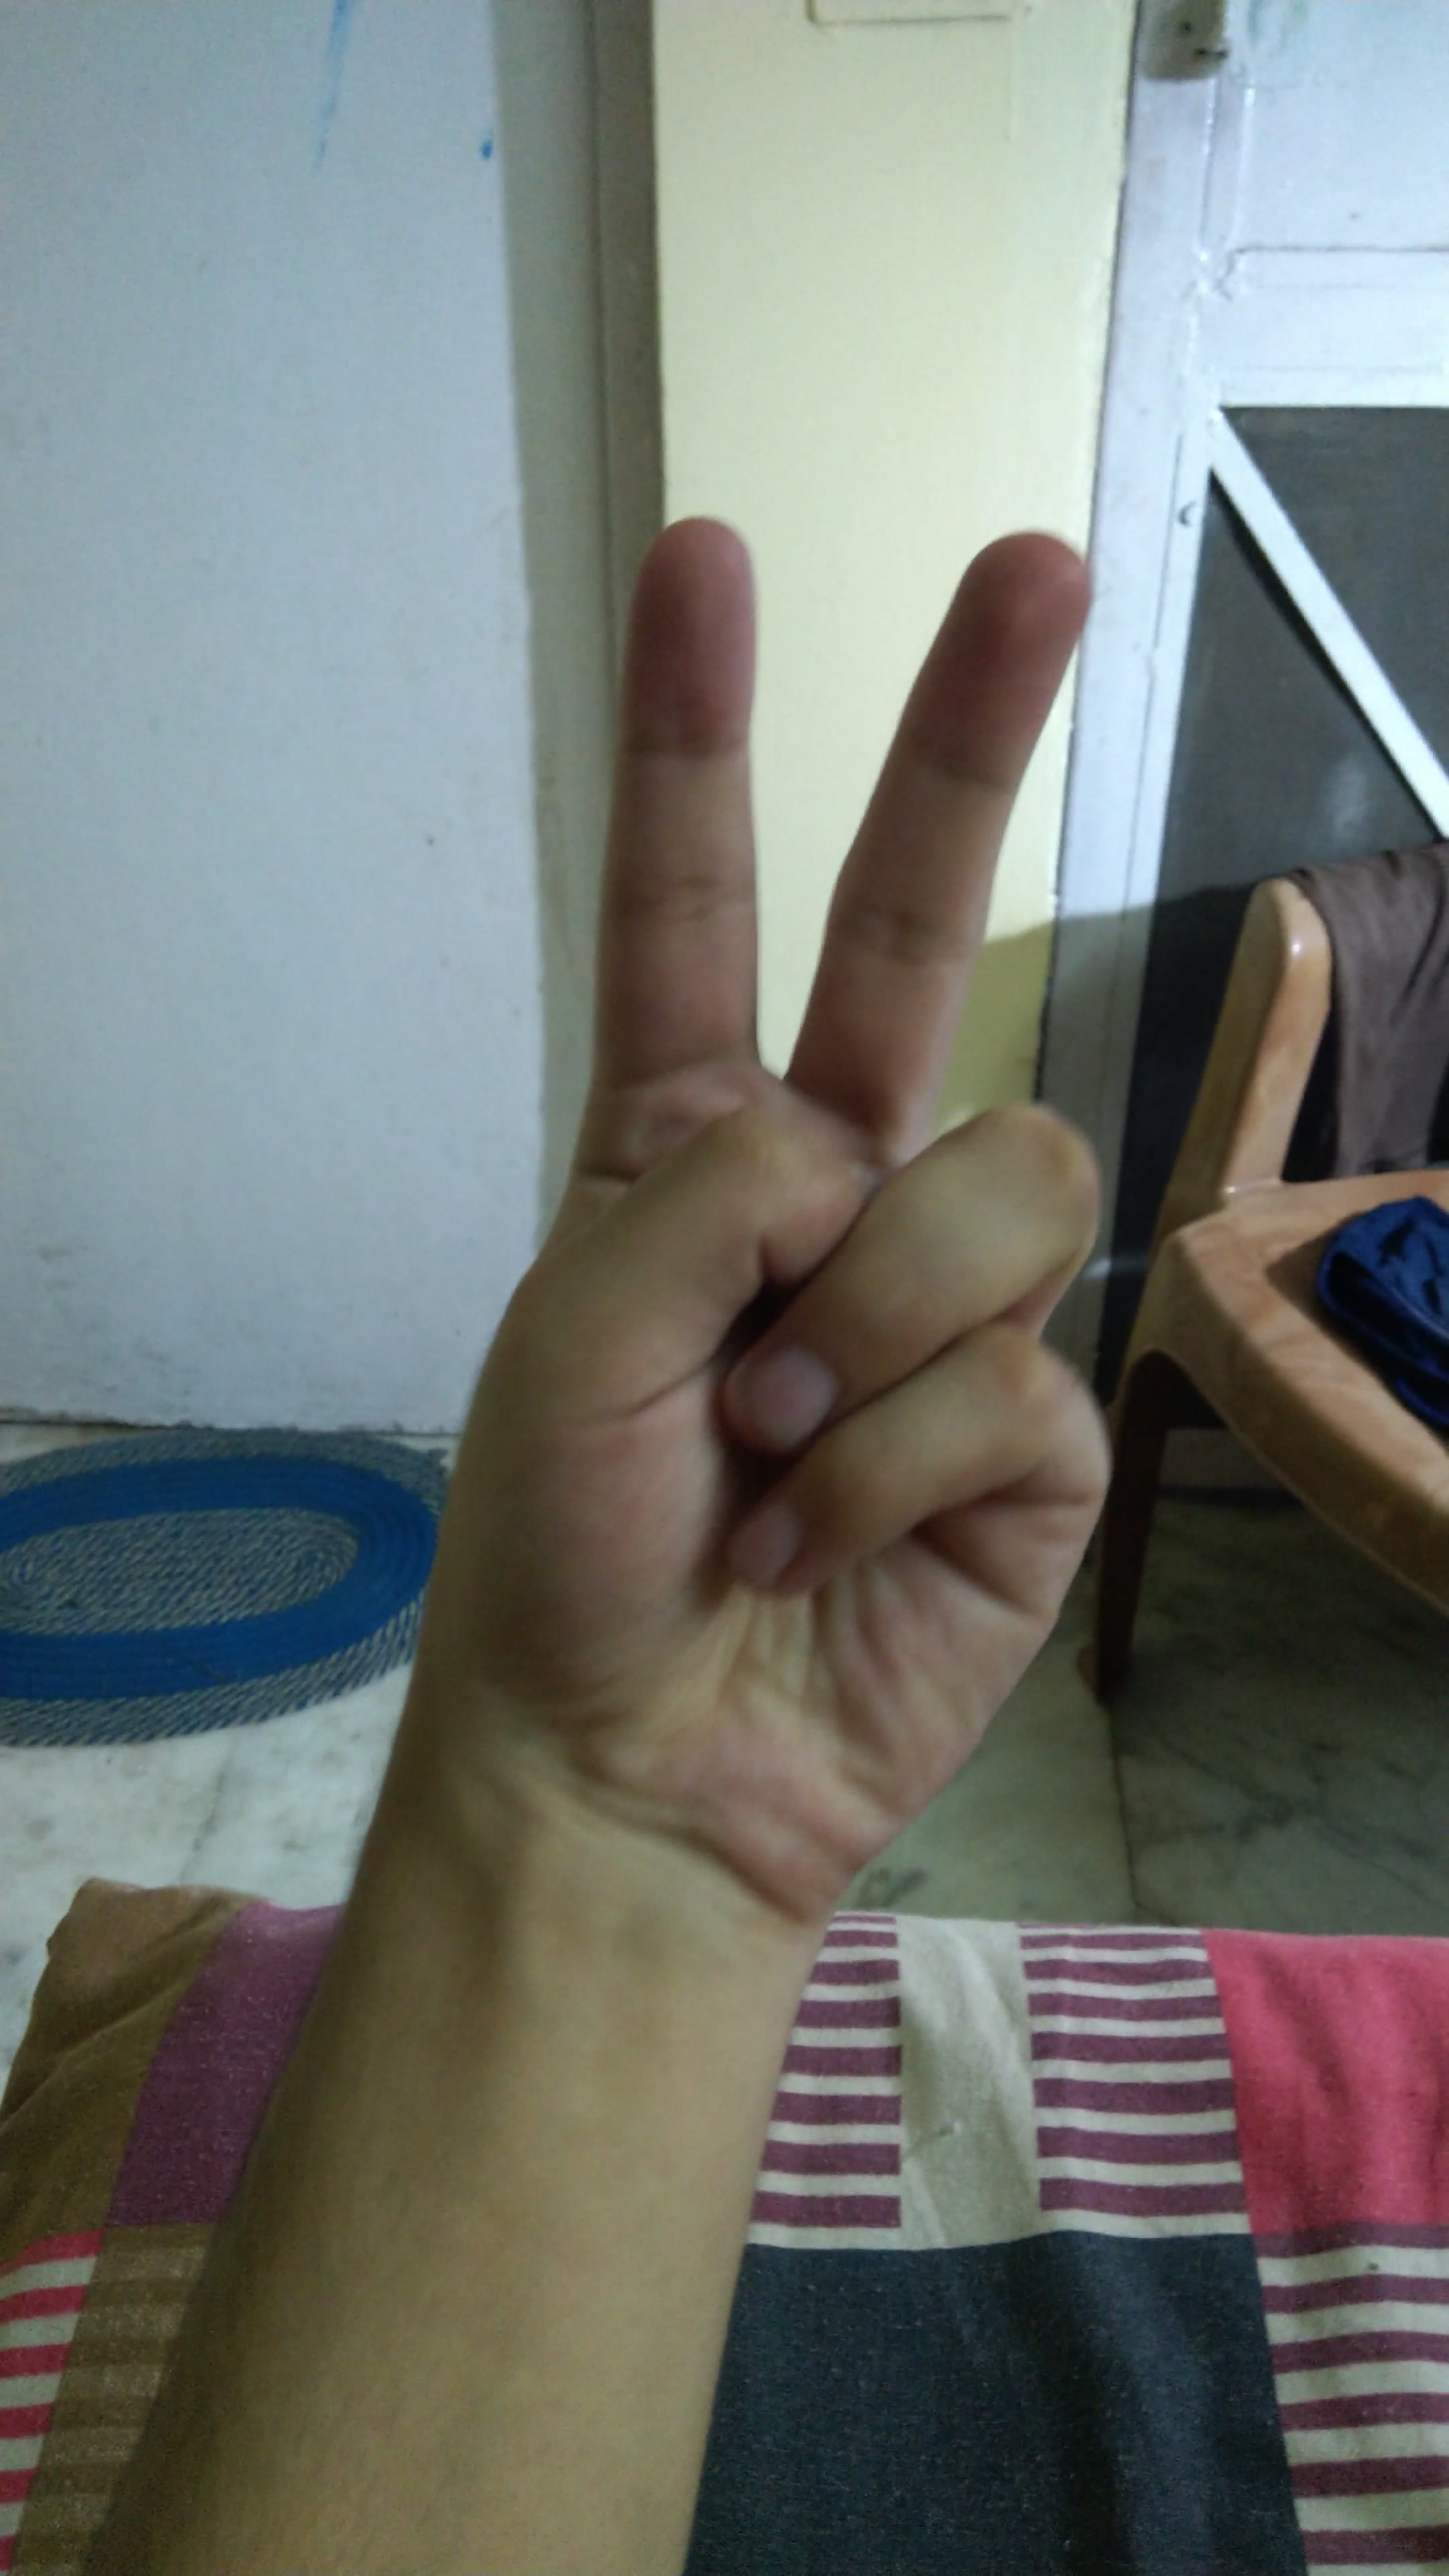hand: (379, 497, 1276, 1948)
